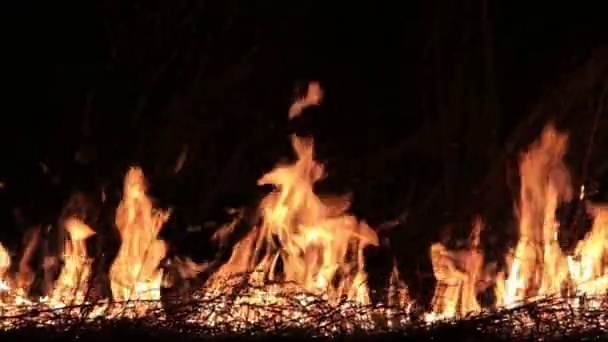fire: (190, 138, 375, 326), (493, 136, 605, 324), (102, 173, 167, 316), (44, 218, 93, 315), (424, 243, 481, 325), (1, 244, 34, 326), (286, 83, 322, 110)
